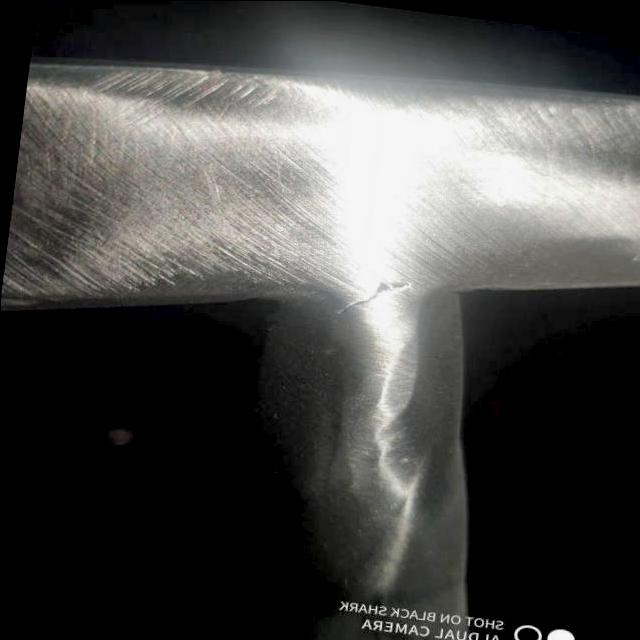defect: (334, 279, 411, 315)
